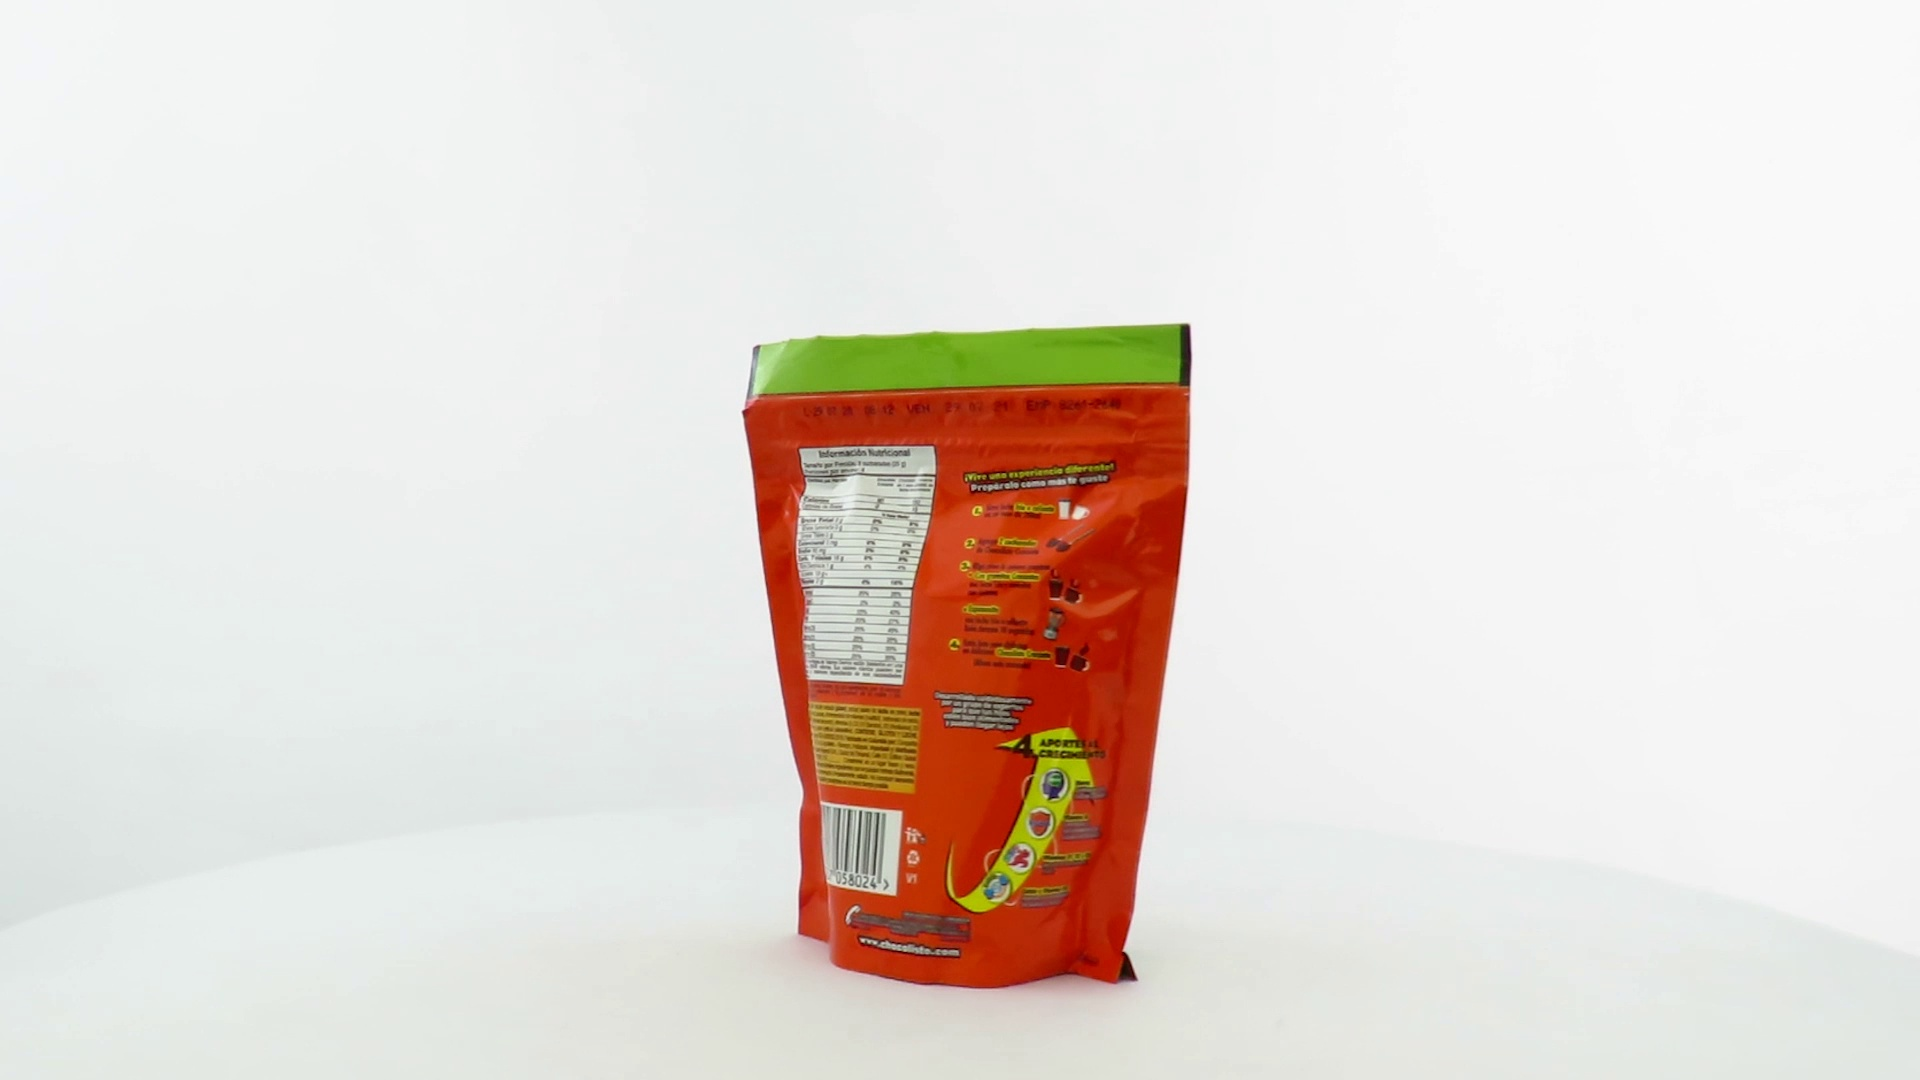COL0170102DYP10000: (737, 318, 1197, 996)
